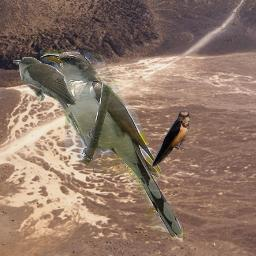Cuckoo: (40, 50, 183, 239), (13, 57, 82, 135)
Swallow: (151, 110, 190, 169)
